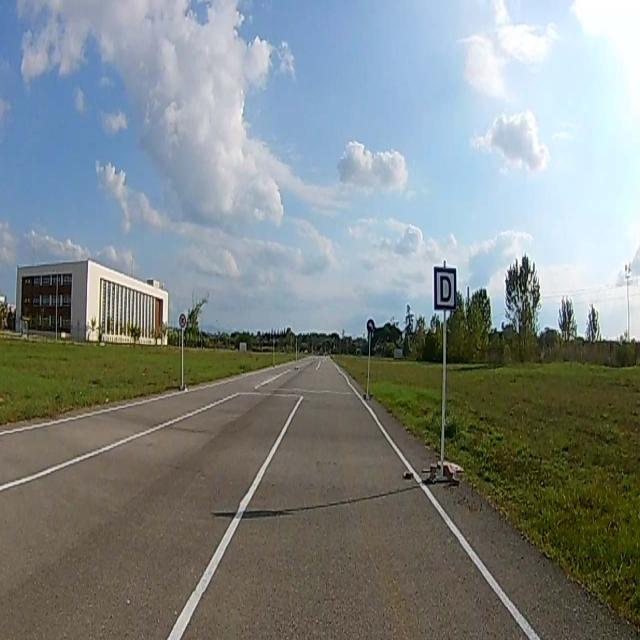durak: (433, 266, 455, 309)
